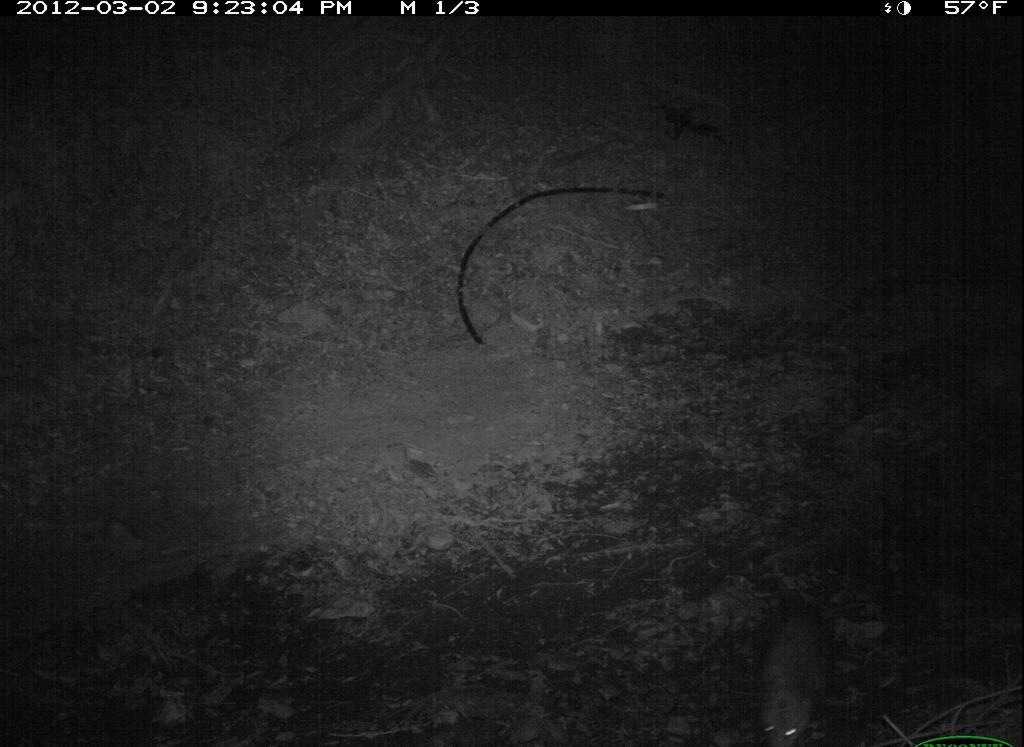opossum: (743, 585, 836, 744)
